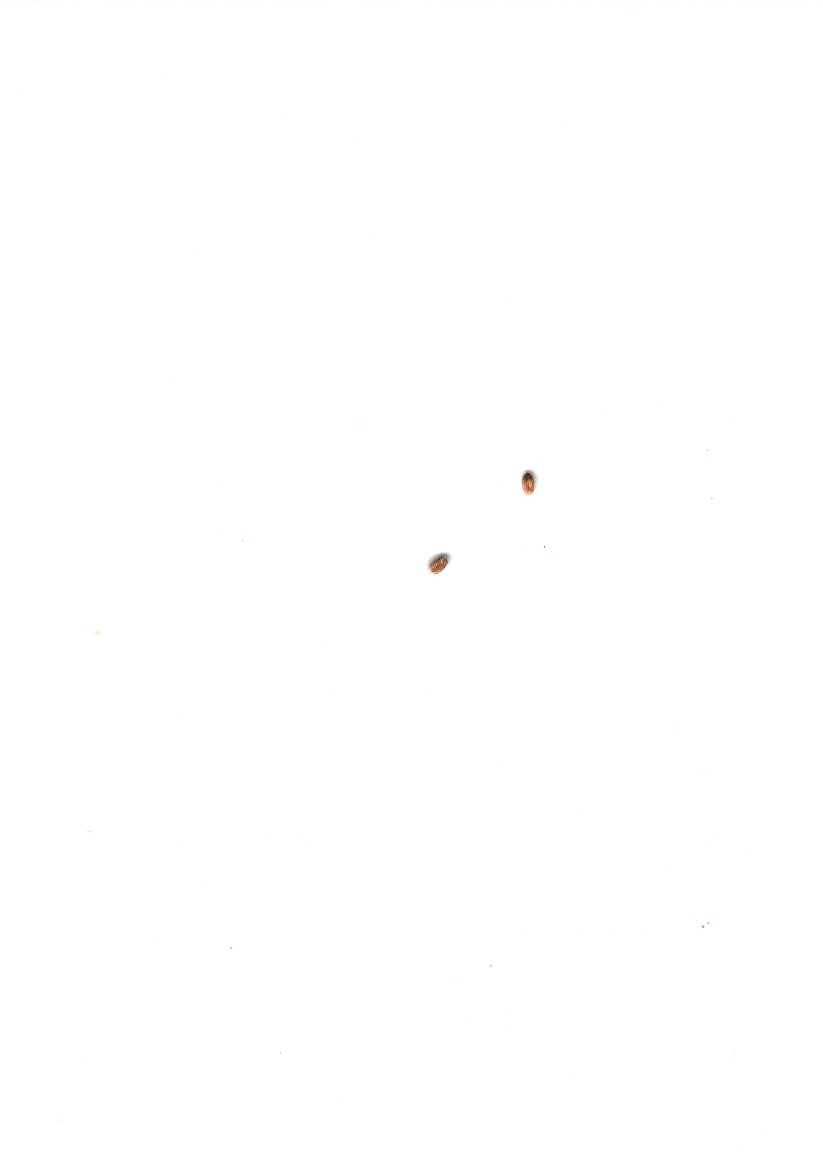grains: (416, 546, 462, 585), (514, 466, 542, 507)
